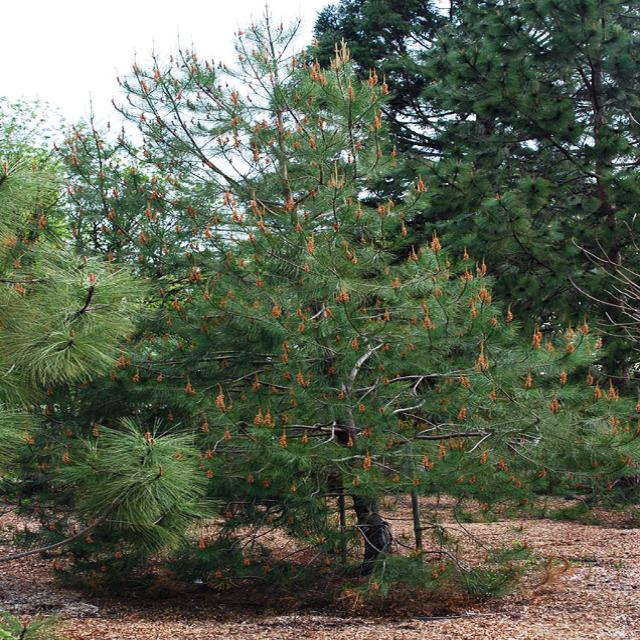Chrysolepis chrysophylla: (55, 4, 640, 571)
